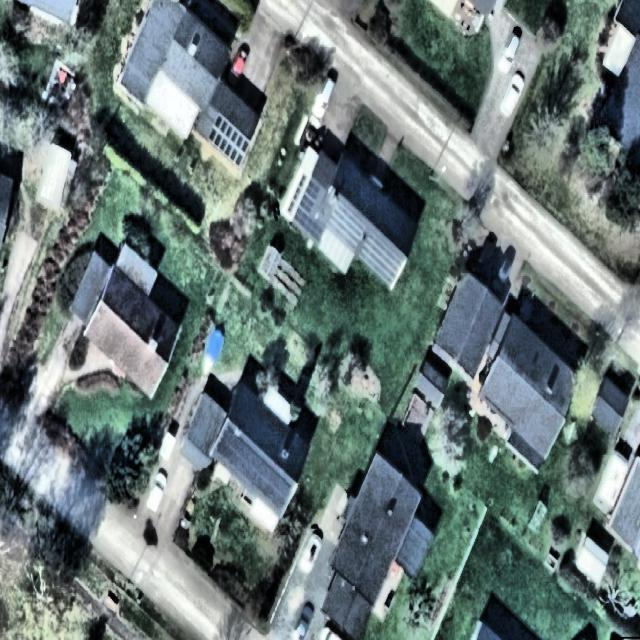roof_pv: (243, 439, 294, 515), (209, 421, 251, 482), (207, 114, 248, 171), (363, 234, 399, 286), (328, 202, 365, 251)
